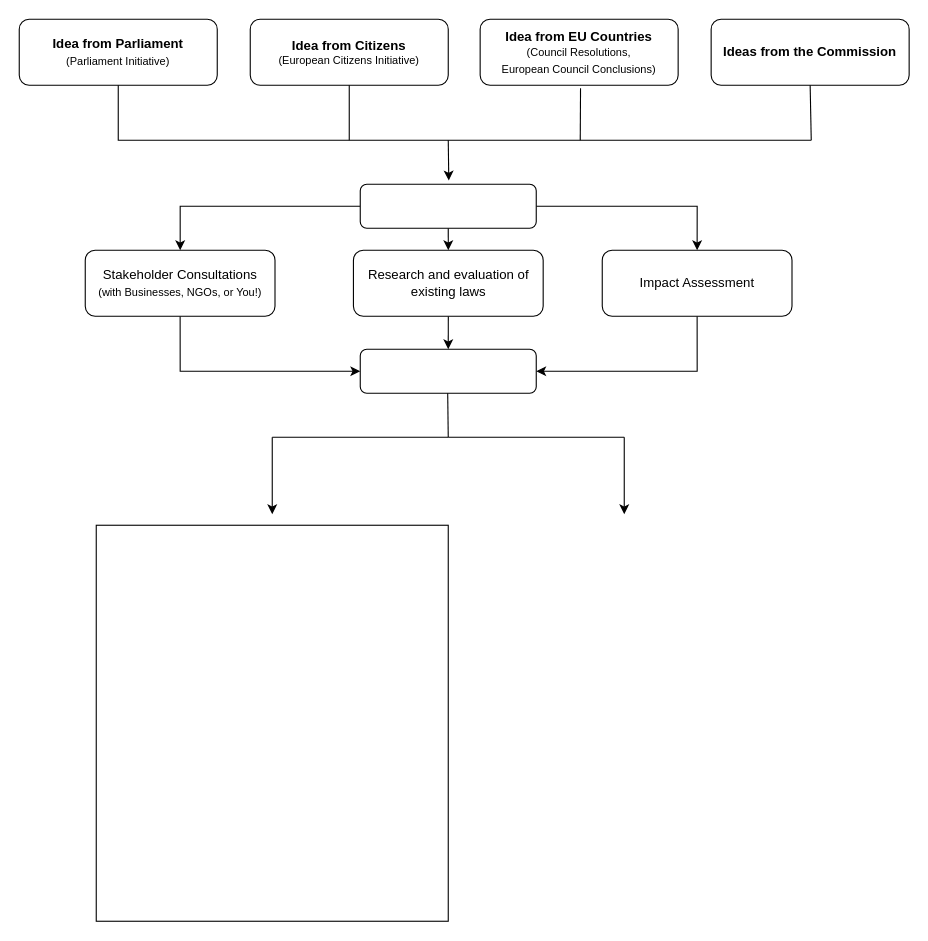
Some shapes in this 928 by 941 pixel diagram are drawn without their labels. The shapes that lost their labels are listed below. From the top down, each one's box as (x1, y1, x2, y2) in pixels, then its label:
(359, 183, 536, 228): Commission adds the idea to its work programme.
(359, 348, 536, 393): Proposal from the European Commission
